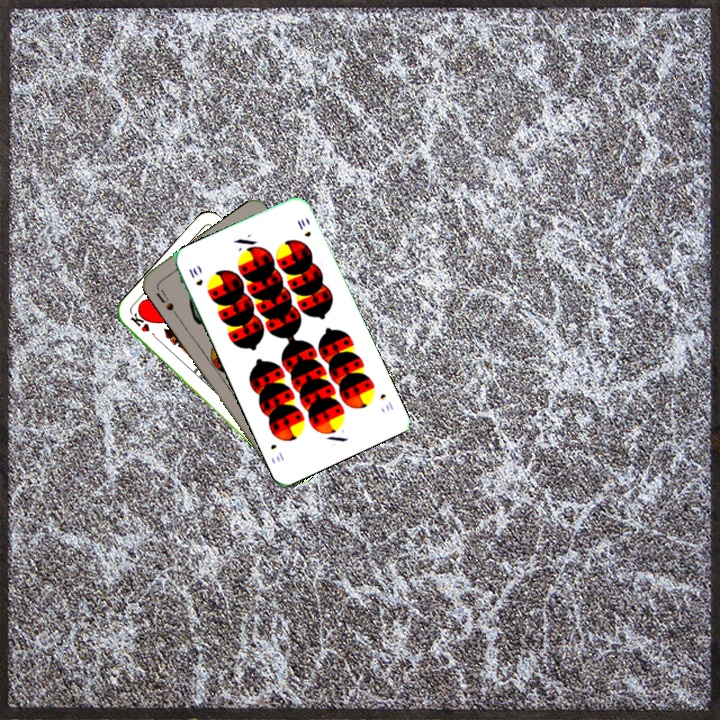HK: (126, 309, 161, 342)
S10: (185, 263, 205, 288), (376, 390, 396, 414)
SU: (152, 282, 180, 318)
